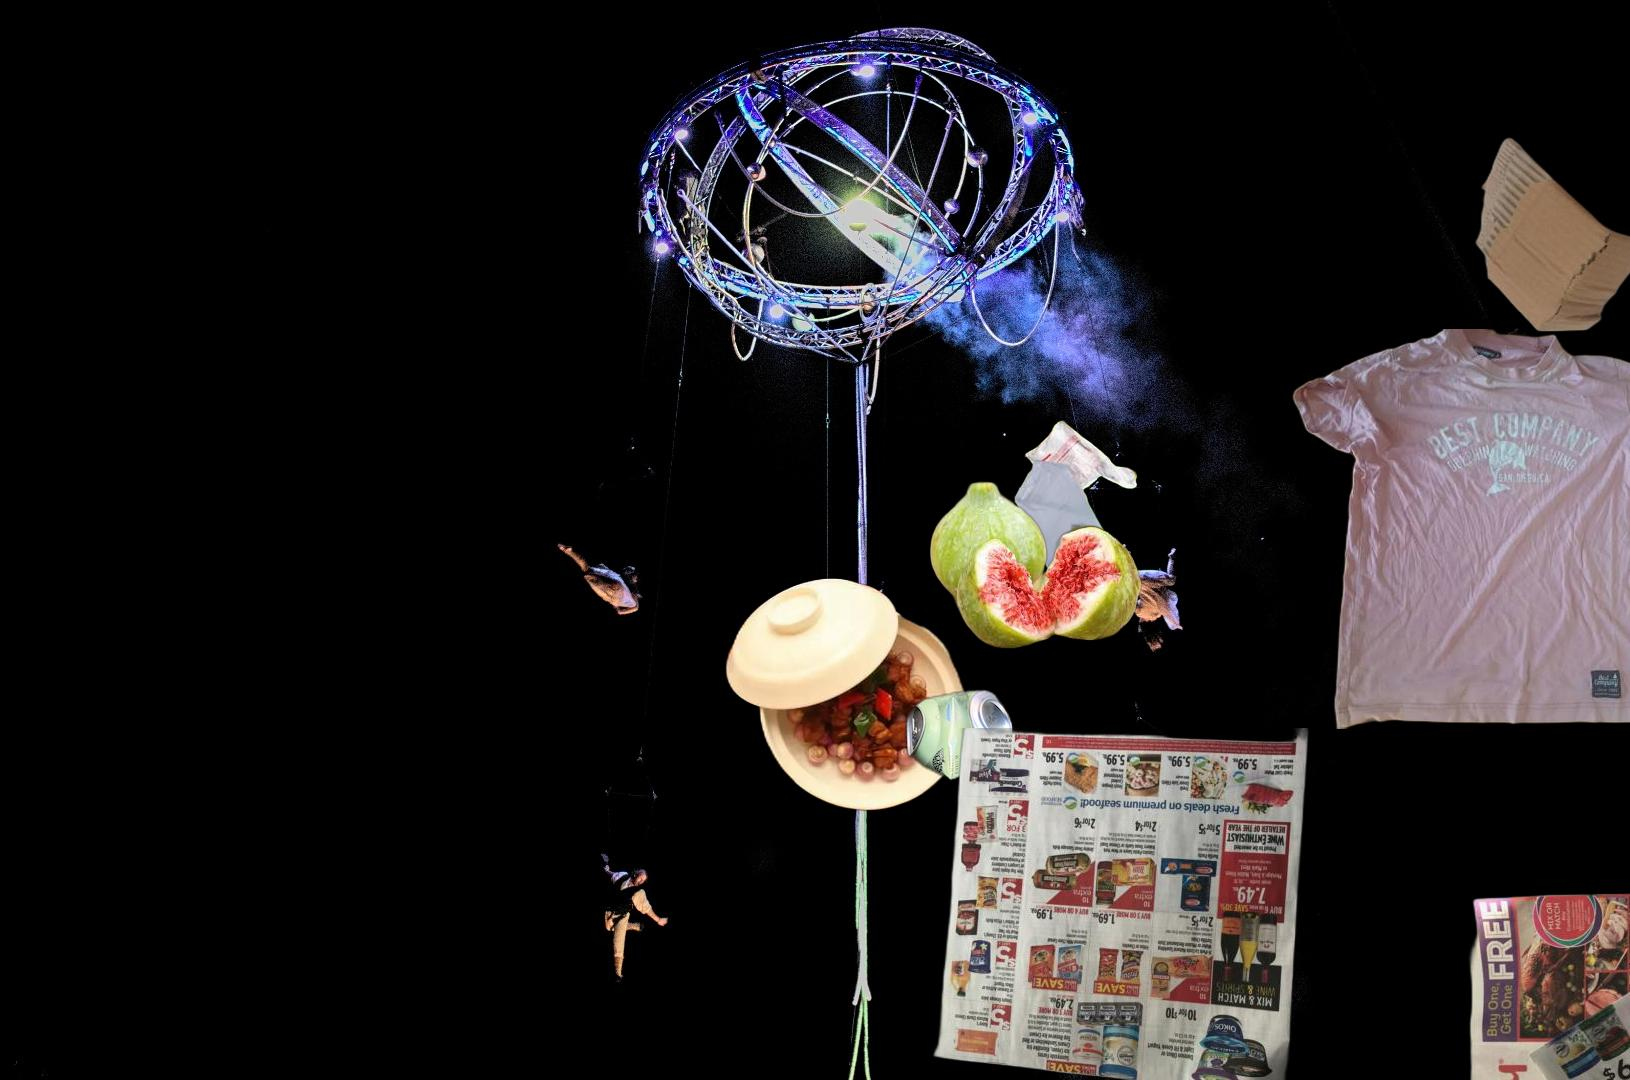biological: (720, 575, 1110, 906), (926, 479, 1144, 652)
clothes: (1287, 329, 1630, 729)
metal-cans: (901, 683, 1313, 1080)
paper: (929, 728, 1316, 1080), (1460, 833, 1630, 1080)
plastic-bag: (1010, 417, 1141, 632)
trashbox-cardboard: (1471, 134, 1630, 334)
